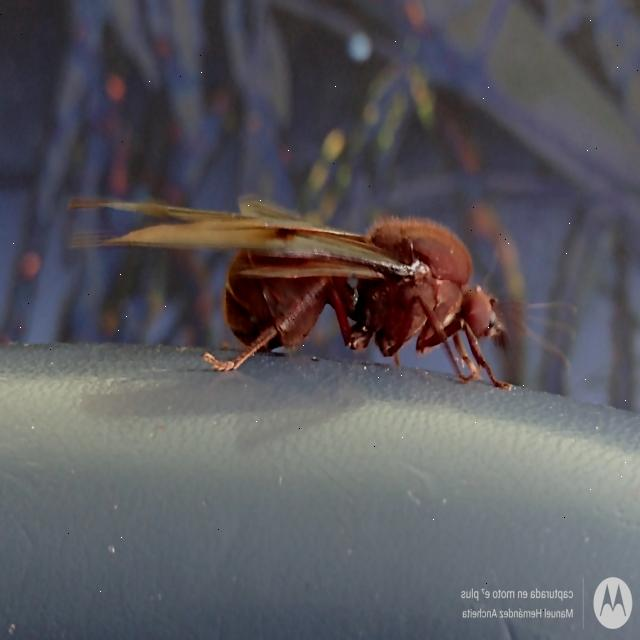Alive-Female-Alate: (66, 192, 578, 393)
